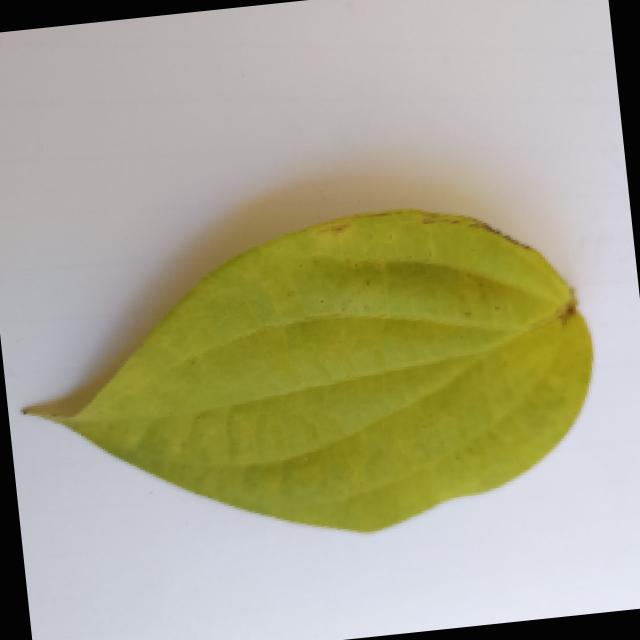slow-decline: (2, 174, 617, 571)
